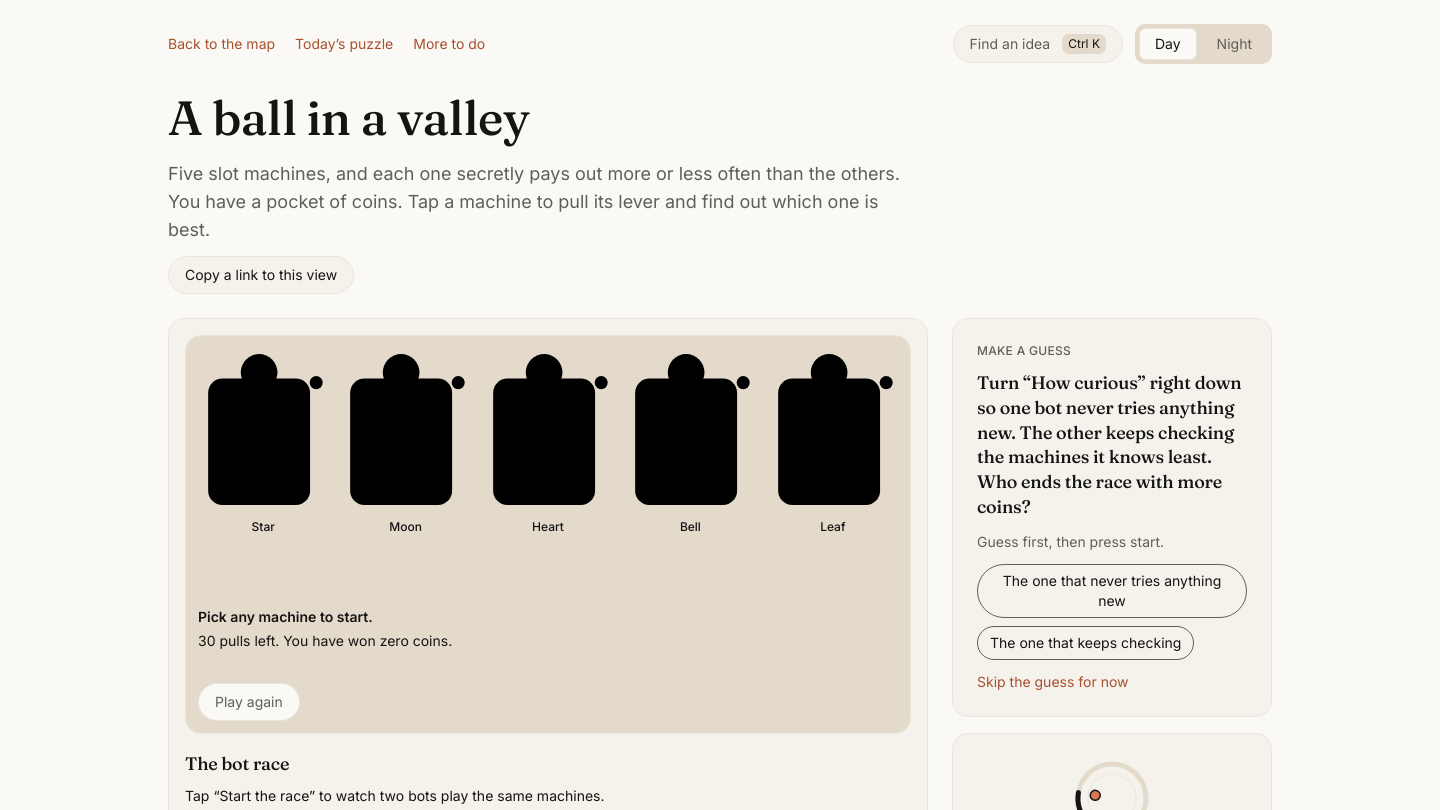
Test: new or favourite: in the lesson › earns the star when a bot with no curiosity races
This screenshot has width=1440, height=810.
Click the button "Skip the guess for now" at (1053, 682), box [977,672,1128,692]
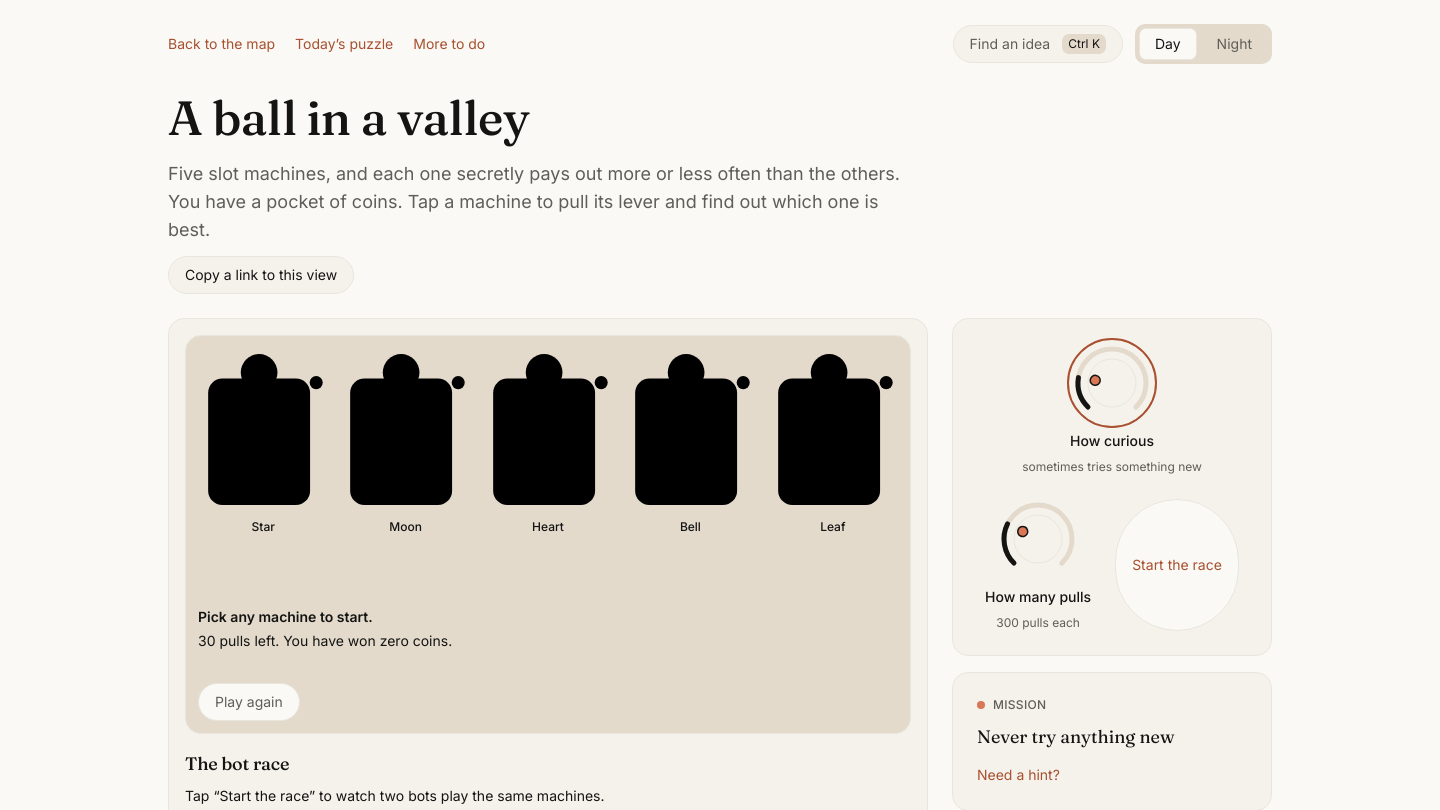
Press Home
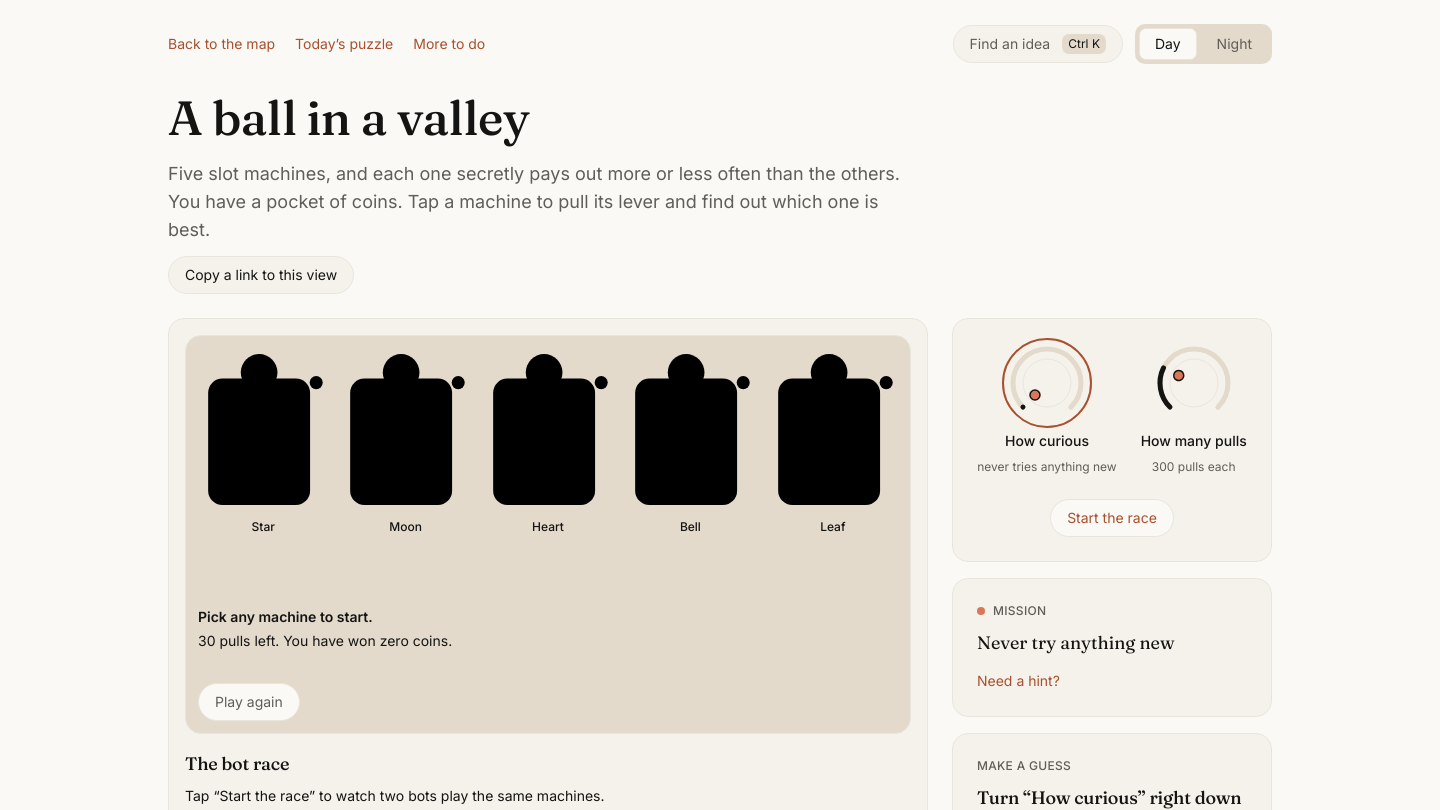
Click the button "Start the race" at (1112, 518), box [1050,499,1174,537]
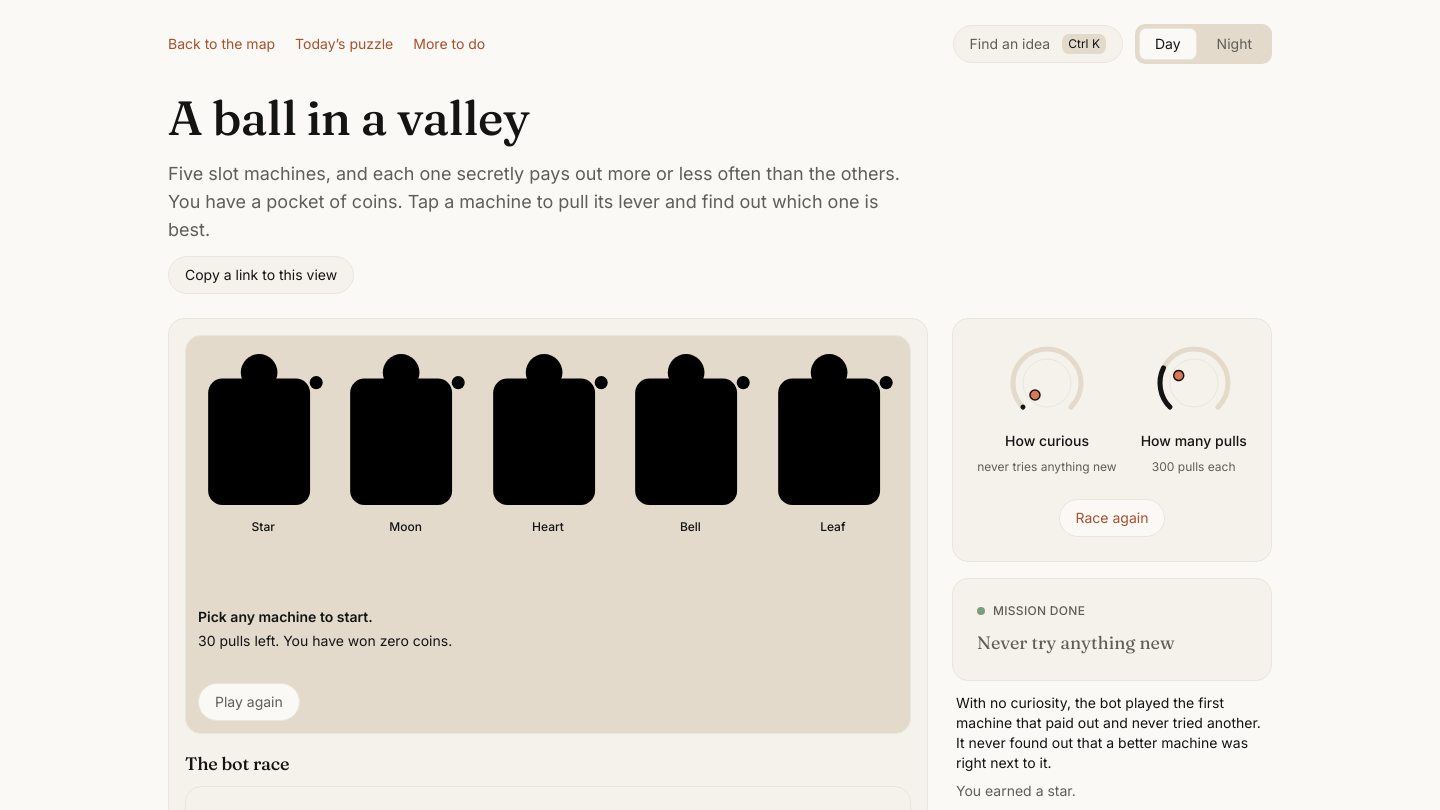
Expected: the text "You earned a star." is shown, [956,781,1076,801]
